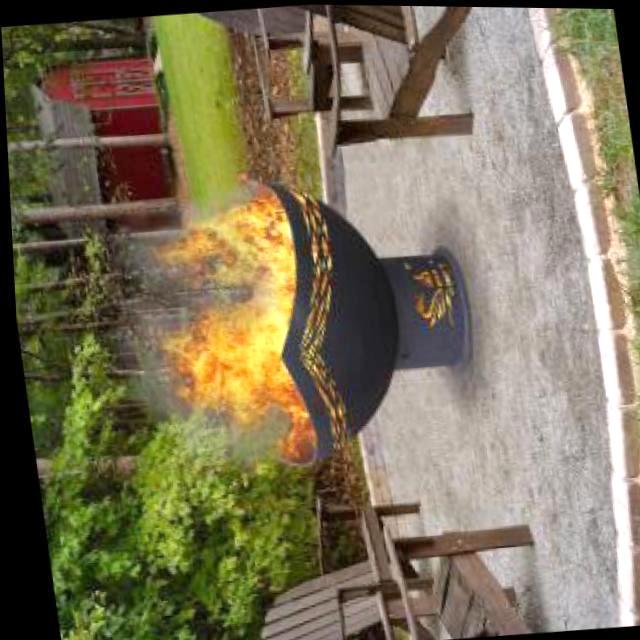fire: (124, 196, 330, 436), (155, 402, 307, 478)
